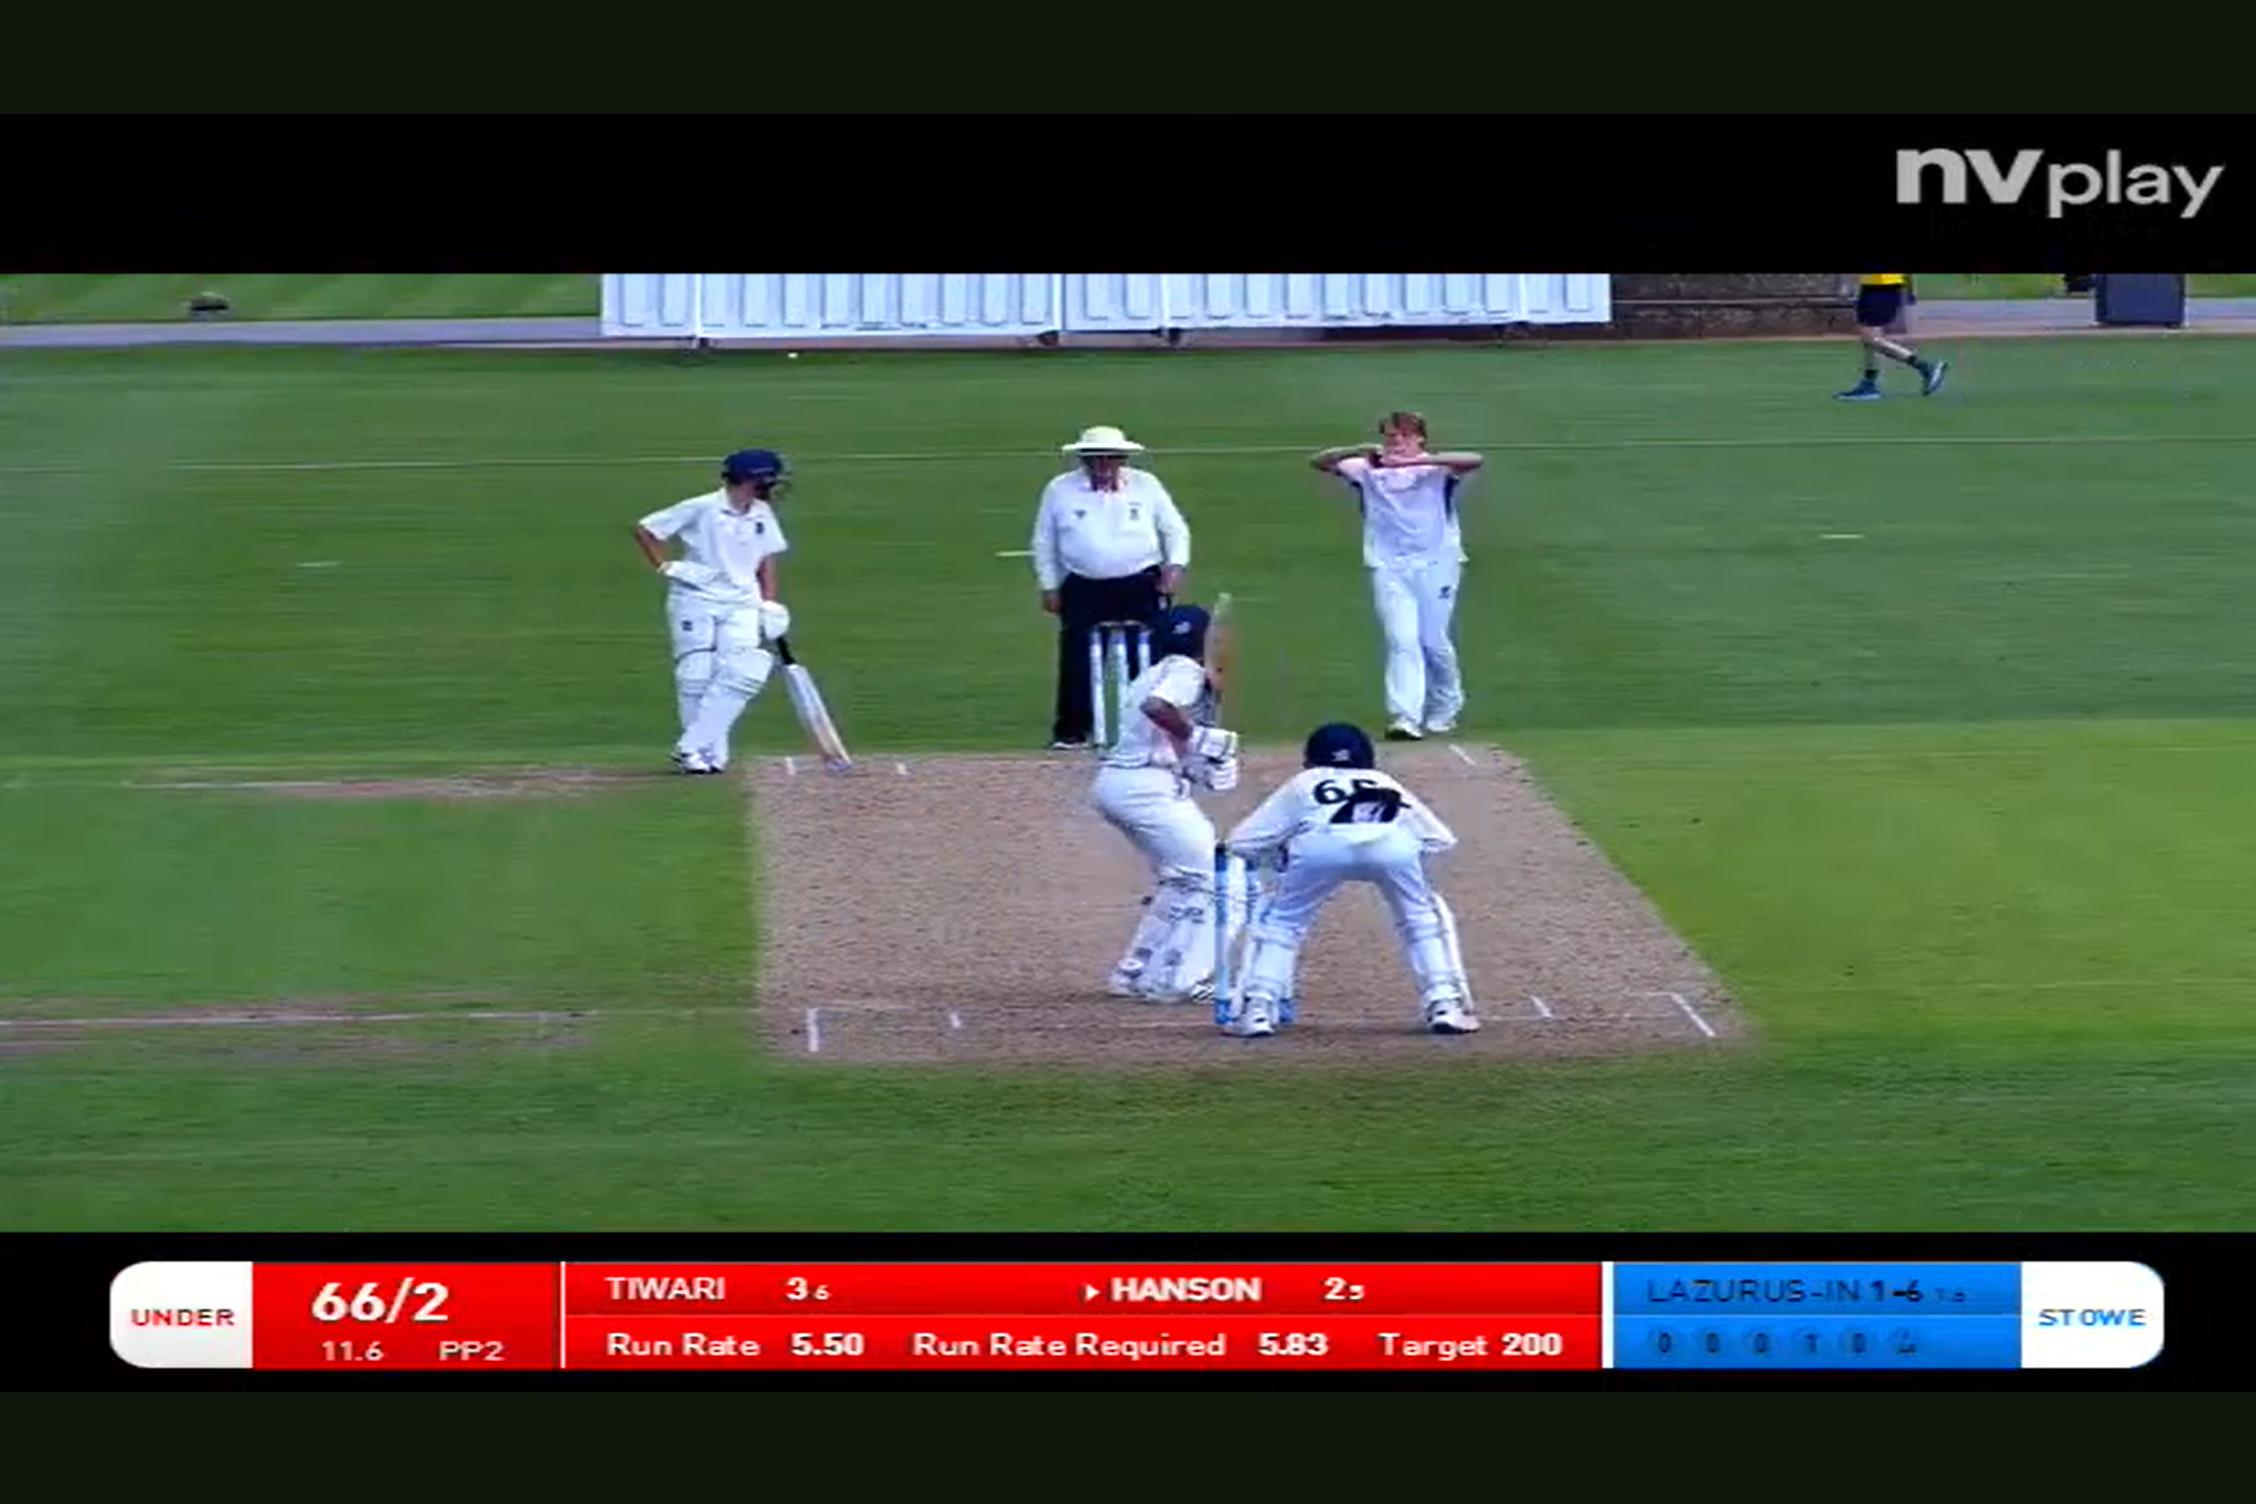batsman: (1084, 562, 1266, 1009)
bowler running in: (1303, 398, 1534, 740)
